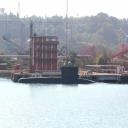submarine: (18, 66, 100, 85)
